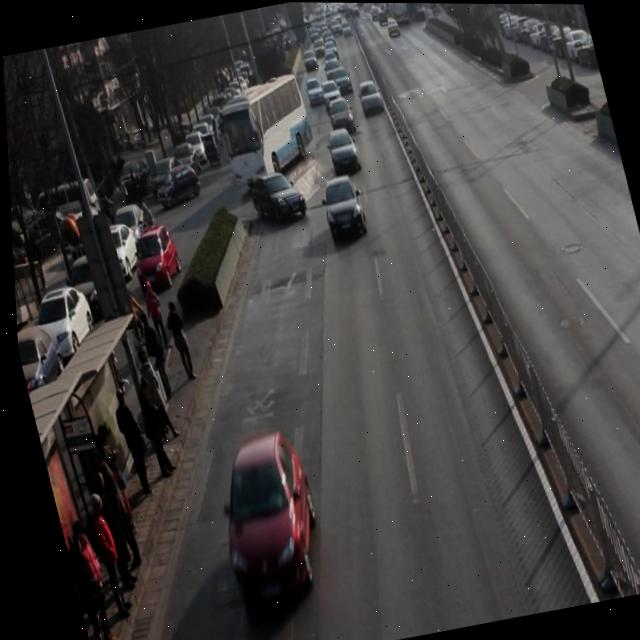car: (198, 429, 330, 611), (245, 167, 308, 228), (317, 174, 367, 242), (323, 125, 362, 178), (354, 78, 386, 117), (325, 96, 356, 136)
van: (211, 72, 321, 189)
